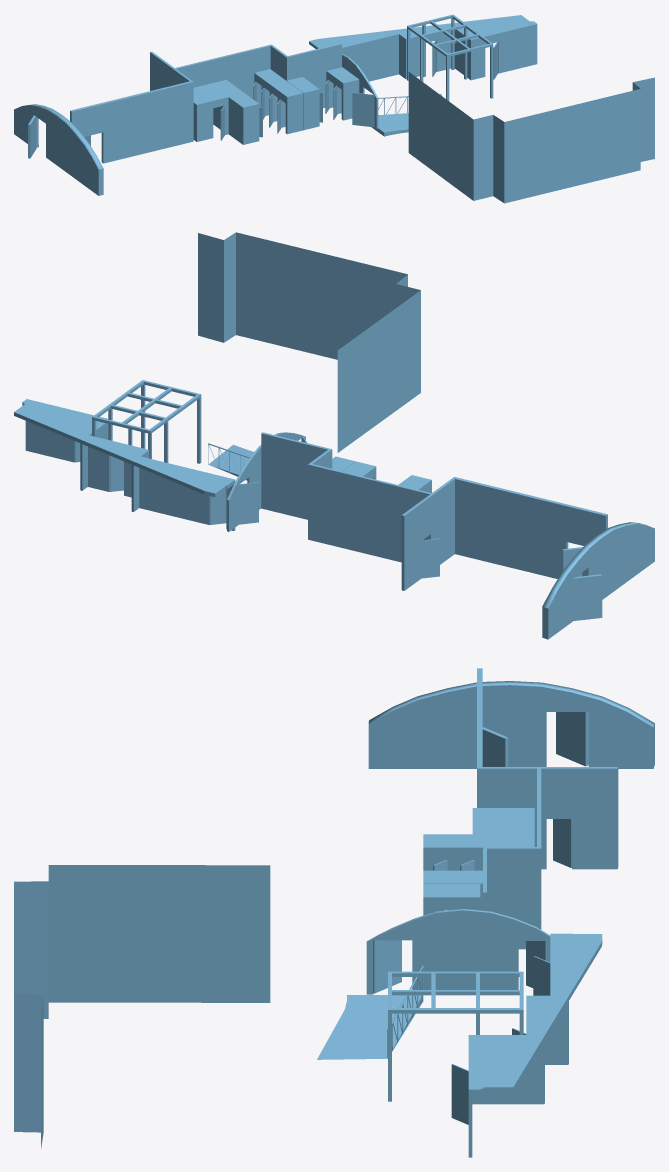
Rendered from Plan_14_-_20.02_Umbau.glb.
3 renders of one model, top to bottom at view 1: azimuth 30°, elevation 25°; view 2: azimuth 150°, elevation 25°; view 3: azimuth 270°, elevation 25°, orthographic. The views are drawn at different scales.
Visible parts, largest first — view 1: Wände Main und Bar Umbau, Wände Eingang, Barfloor Wand, Toiletten, Wand Eingang, Barfloor Wand Decke, Toiletten.001, Gerüst, Toilette Behindertengerecht, Trennwand, Rampe; view 2: Wände Main und Bar Umbau, Wände Eingang, Barfloor Wand, Wand Eingang, Barfloor Wand Decke, Gerüst, Trennwand, Toiletten, Rampe; view 3: Wände Main und Bar Umbau, Wand Eingang, Wände Eingang, Trennwand, Barfloor Wand Decke, Barfloor Wand, Rampe, Toiletten, Gerüst, Toilette Behindertengerecht, Toiletten.001.
Boxes of the visible parts, left/top/right/bottom form: Wände Main und Bar Umbau: left=408, top=72, right=654, bottom=203; Wände Eingang: left=70, top=43, right=341, bottom=163; Barfloor Wand: left=342, top=27, right=537, bottom=81; Toiletten: left=211, top=69, right=303, bottom=144; Wand Eingang: left=14, top=104, right=103, bottom=195; Barfloor Wand Decke: left=309, top=15, right=537, bottom=50; Toiletten.001: left=287, top=67, right=359, bottom=130; Gerüst: left=407, top=14, right=493, bottom=101; Toilette Behindertengerecht: left=193, top=83, right=228, bottom=141; Trennwand: left=342, top=53, right=378, bottom=128; Rampe: left=371, top=113, right=408, bottom=136; Wände Main und Bar Umbau: left=198, top=232, right=420, bottom=452; Wände Eingang: left=261, top=432, right=607, bottom=590; Barfloor Wand: left=25, top=421, right=235, bottom=530; Wand Eingang: left=542, top=522, right=654, bottom=639; Barfloor Wand Decke: left=14, top=399, right=235, bottom=497; Gerüst: left=92, top=380, right=201, bottom=463; Trennwand: left=227, top=432, right=307, bottom=531; Toiletten: left=343, top=461, right=431, bottom=492; Rampe: left=209, top=444, right=253, bottom=479; Wände Main und Bar Umbau: left=14, top=865, right=270, bottom=1148; Wand Eingang: left=368, top=681, right=654, bottom=768; Wände Eingang: left=477, top=668, right=618, bottom=949; Trennwand: left=366, top=909, right=550, bottom=994; Barfloor Wand Decke: left=468, top=933, right=602, bottom=1094; Barfloor Wand: left=451, top=956, right=568, bottom=1157; Rampe: left=317, top=995, right=422, bottom=1059; Toiletten: left=423, top=834, right=534, bottom=910; Gerüst: left=388, top=971, right=523, bottom=1101; Toilette Behindertengerecht: left=472, top=808, right=534, bottom=834; Toiletten.001: left=423, top=884, right=480, bottom=915.
Size of the model in its own units: 33.93 by 5.47 by 23.08.
